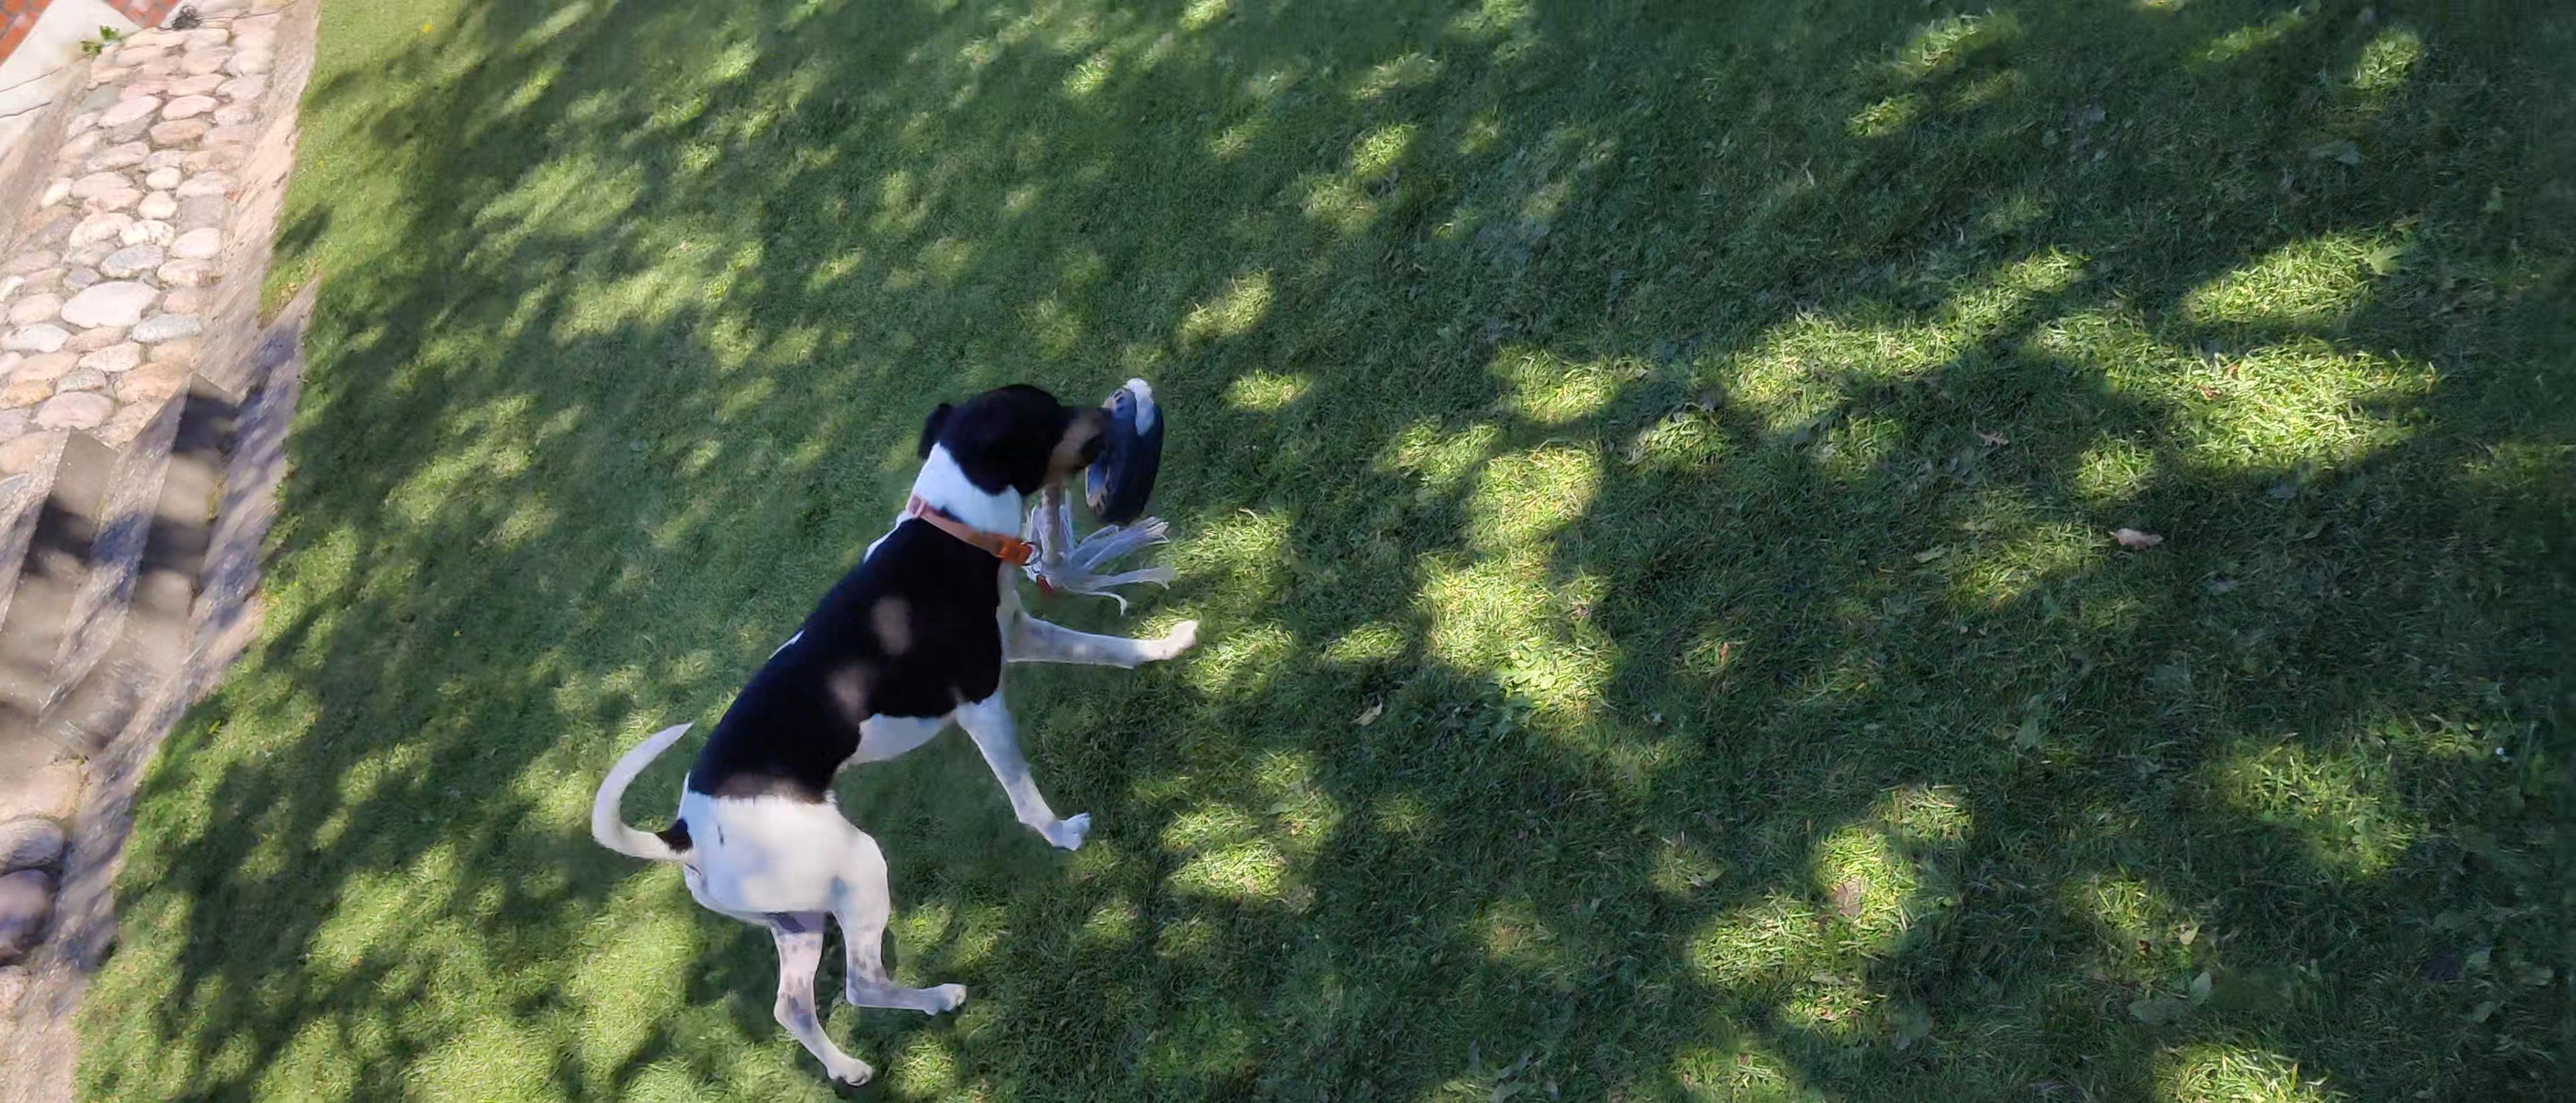Dog: (583, 373, 1207, 1085)
